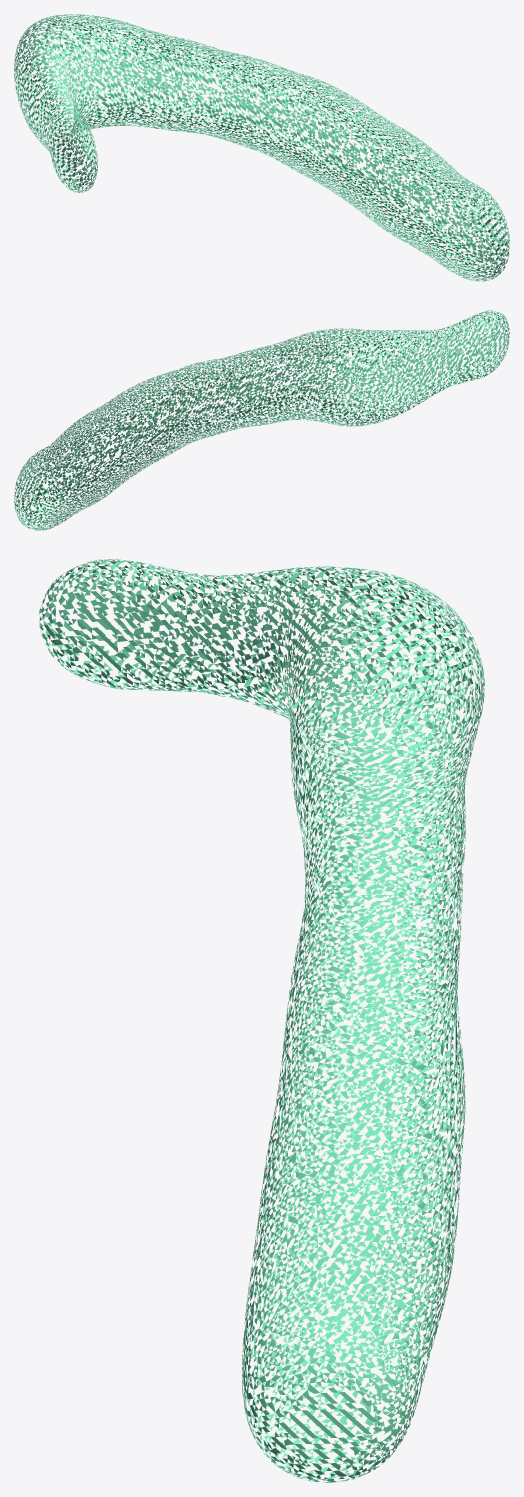
The model's file is healthy.glb.
The picture shows the model from 3 angles, top to bottom: view 1: azimuth 30°, elevation 25°; view 2: azimuth 150°, elevation 25°; view 3: azimuth 270°, elevation 25°; orthographic projection. The views are drawn at different scales.
Bounding box in the file's own units: 113 × 73.59 × 52.26.
